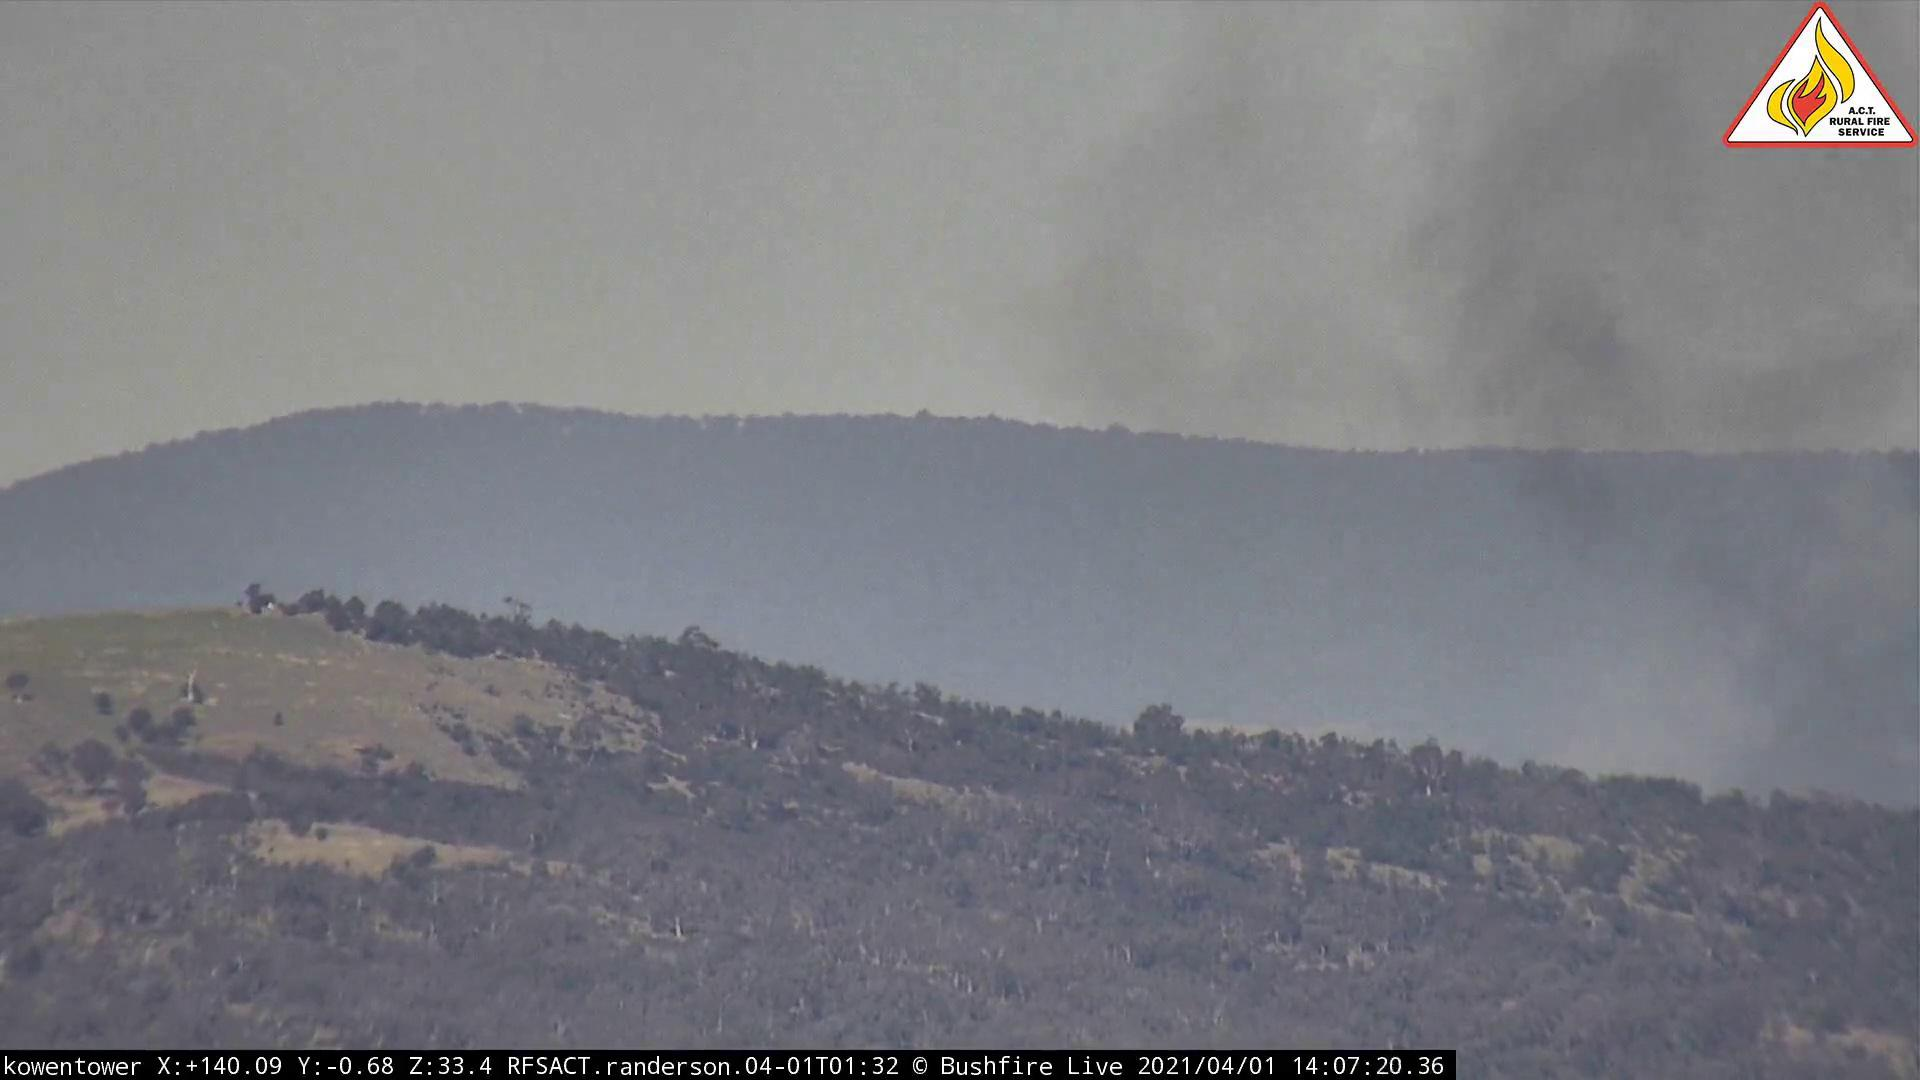Smoke: (1006, 171, 1920, 882)
